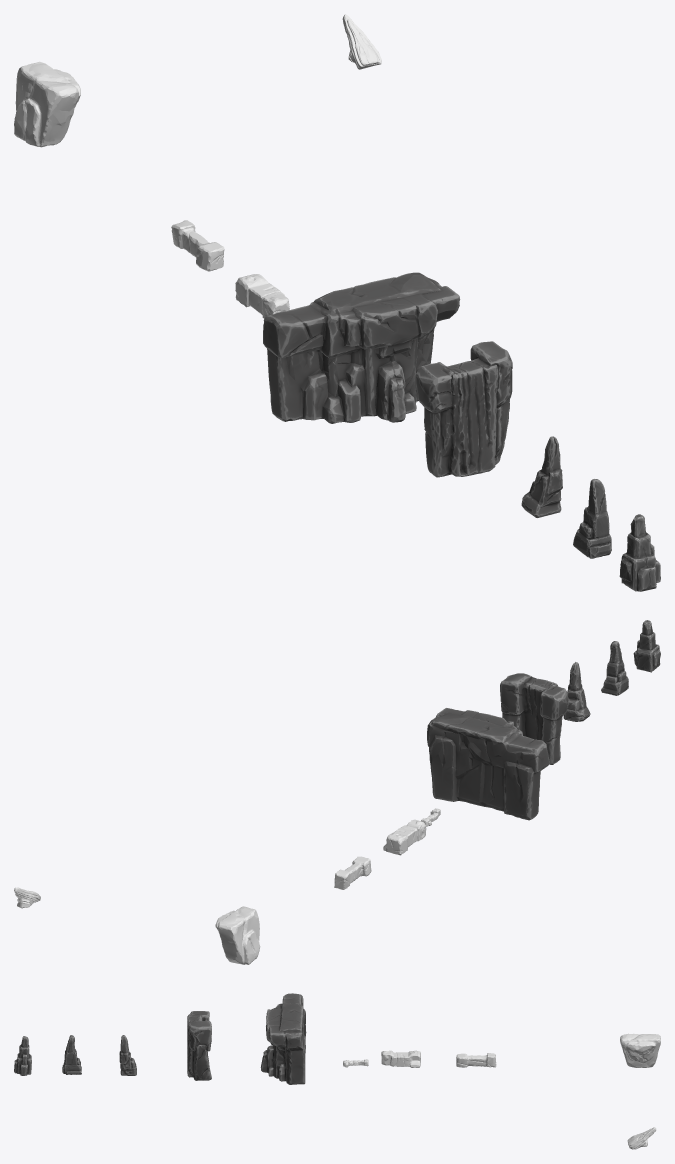
File: RockAssets.fbx
3 views of the same model, one above another, from view 1: azimuth 30°, elevation 25°; view 2: azimuth 150°, elevation 25°; view 3: azimuth 270°, elevation 25° (orthographic). The views are drawn at different scales.
Parts seen in each view (by area): view 1: Rock_Wall02, Rock_Wall01, Rock_MediumWall01, Rock_Pillar01, Rock_Pillar03, Rock_Pillar02, Rock_SmallWall02, Rock_SmallWall03, Rock_Pillar04; view 2: Rock_Wall02, Rock_Wall01, Rock_MediumWall01, Rock_Pillar01, Rock_Pillar03, Rock_Pillar02, Rock_SmallWall02, Rock_SmallWall03; view 3: Rock_Wall02, Rock_Wall01, Rock_MediumWall01, Rock_SmallWall02, Rock_SmallWall03, Rock_Pillar02, Rock_Pillar01, Rock_Pillar03, Rock_Pillar04.
Boxes of the visible parts, <box> form: Rock_Wall02: <box>263,272,460,423</box>; Rock_Wall01: <box>416,341,512,477</box>; Rock_MediumWall01: <box>14,61,80,147</box>; Rock_Pillar01: <box>619,514,660,591</box>; Rock_Pillar03: <box>521,436,562,517</box>; Rock_Pillar02: <box>573,479,611,558</box>; Rock_SmallWall02: <box>235,274,289,318</box>; Rock_SmallWall03: <box>171,220,224,271</box>; Rock_Pillar04: <box>342,14,381,69</box>; Rock_Wall02: <box>427,708,549,820</box>; Rock_Wall01: <box>500,673,568,764</box>; Rock_MediumWall01: <box>215,906,260,964</box>; Rock_Pillar01: <box>633,620,660,672</box>; Rock_Pillar03: <box>563,662,590,721</box>; Rock_Pillar02: <box>601,641,628,695</box>; Rock_SmallWall02: <box>383,819,426,855</box>; Rock_SmallWall03: <box>334,856,371,889</box>; Rock_Wall02: <box>260,993,306,1084</box>; Rock_Wall01: <box>187,1011,211,1080</box>; Rock_MediumWall01: <box>620,1033,660,1067</box>; Rock_SmallWall02: <box>381,1050,420,1067</box>; Rock_SmallWall03: <box>456,1053,496,1067</box>; Rock_Pillar02: <box>62,1035,81,1074</box>; Rock_Pillar01: <box>14,1036,31,1075</box>; Rock_Pillar03: <box>119,1035,136,1075</box>; Rock_Pillar04: <box>627,1127,656,1149</box>.
Bounding box in the file's own units: 10206 × 2550 × 25203.
